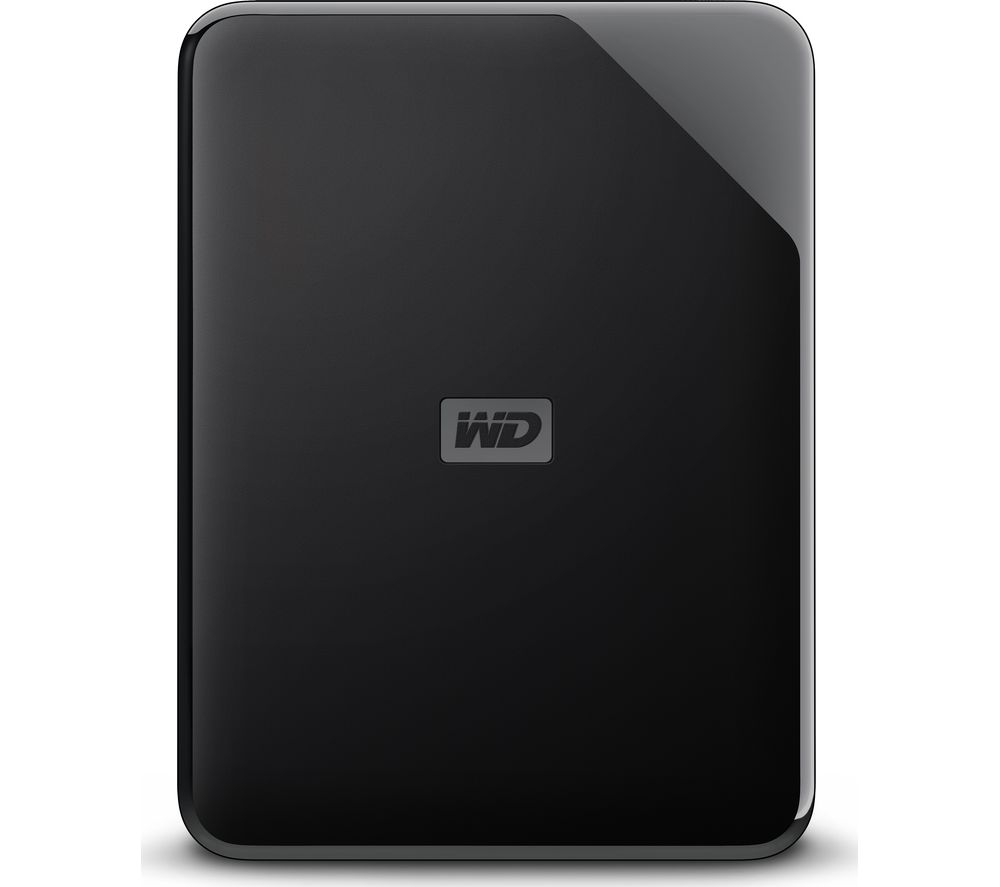Portable Hard Drive: (96, 1, 932, 887)
